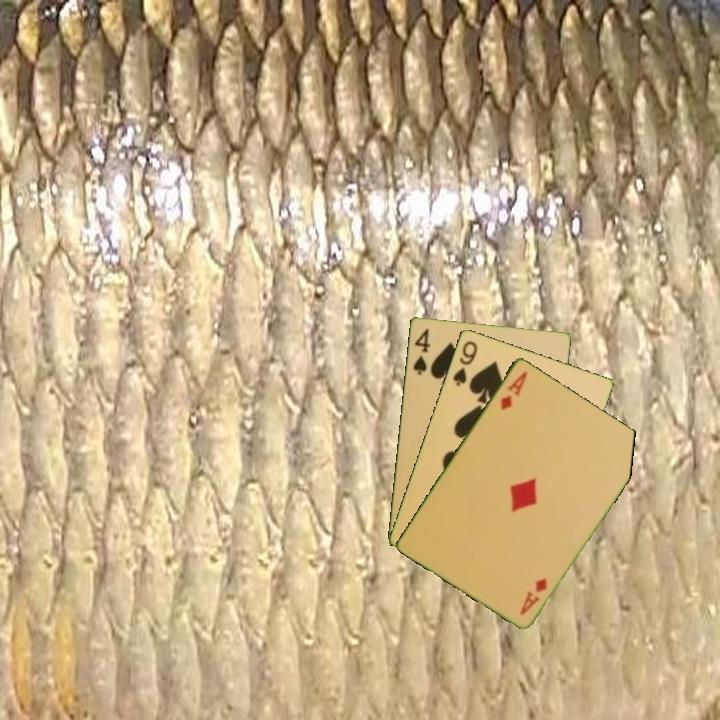4s: (409, 325, 433, 377)
9s: (449, 337, 480, 389)
Ad: (497, 367, 530, 413), (516, 574, 550, 618)
